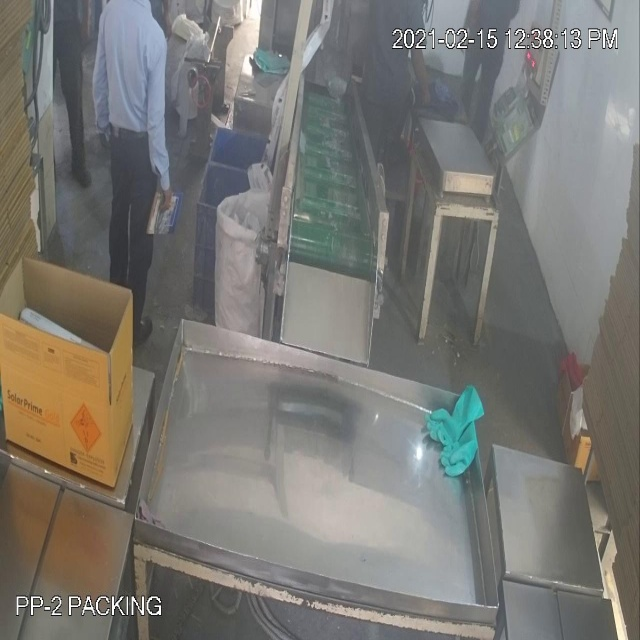Sin_guantes: (140, 40, 176, 214), (409, 32, 433, 119)
